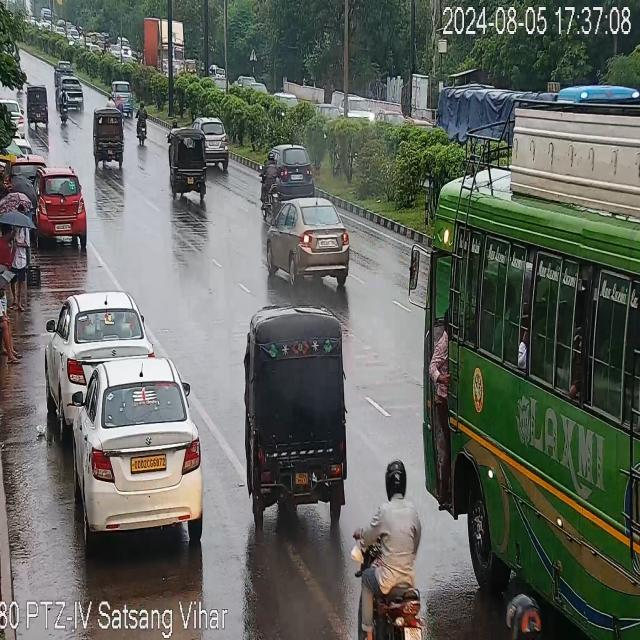2-wheelers: (359, 469, 423, 601), (349, 534, 420, 640), (500, 580, 548, 640), (134, 109, 150, 142), (59, 92, 70, 125), (105, 95, 125, 112)
auto: (240, 314, 352, 524), (170, 139, 213, 197), (94, 114, 126, 164), (26, 84, 54, 125)
bus: (430, 84, 640, 640)
car: (64, 355, 207, 538), (50, 293, 149, 409), (270, 194, 358, 284), (35, 177, 87, 240), (260, 143, 314, 185), (192, 118, 232, 166), (346, 98, 374, 125), (18, 152, 48, 176), (115, 78, 133, 112), (69, 76, 83, 112), (52, 59, 72, 80)
pedestrian: (0, 217, 27, 307), (0, 281, 20, 360)
truck: (76, 600, 230, 640), (144, 15, 188, 76)
